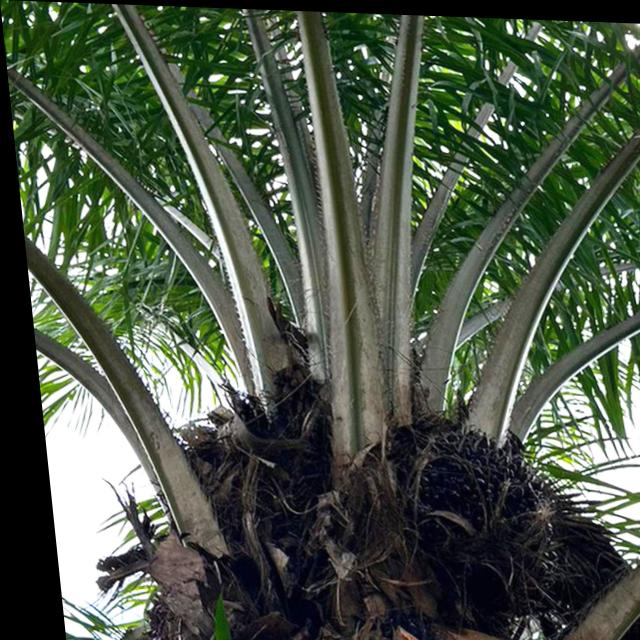almost: (372, 409, 543, 563)
